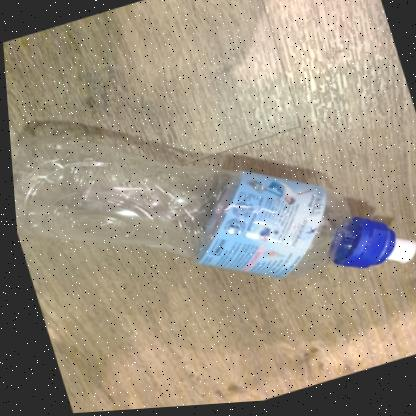Plastic: (8, 137, 412, 281)
